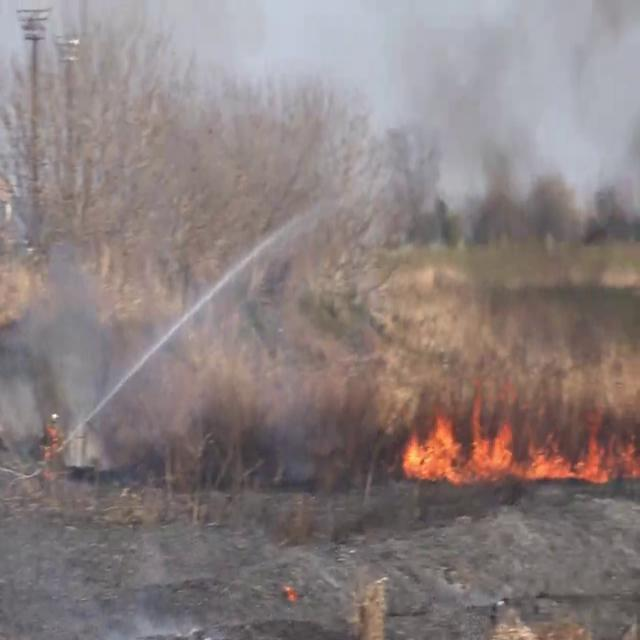Fire: (398, 396, 634, 490)
Smoke: (336, 0, 640, 271), (5, 213, 255, 476)
